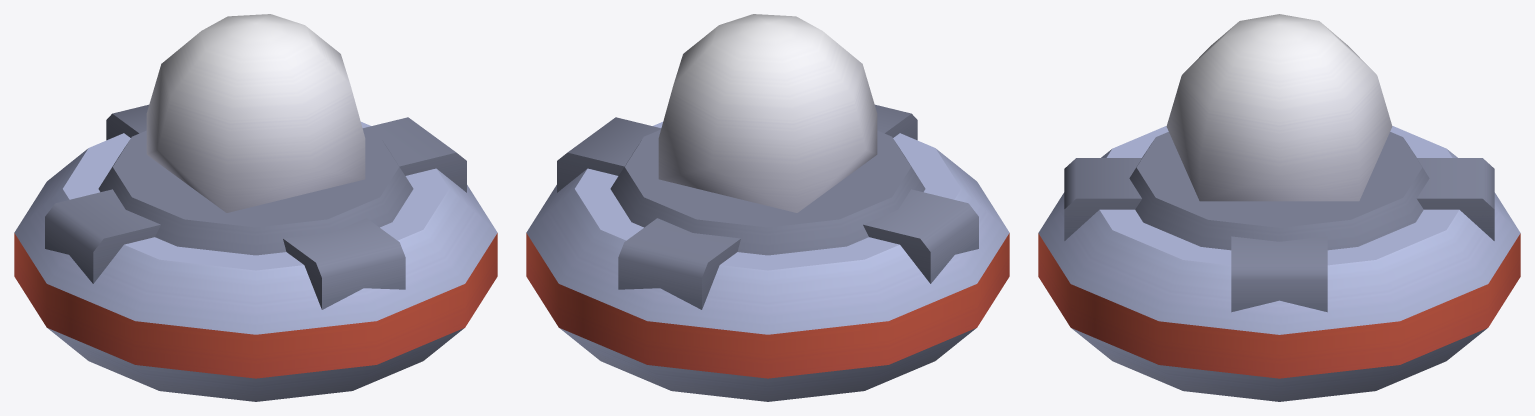
The model's file is cc0-enemy-ufo-lod1.glb.
3 renders of one model, left to right at view 1: azimuth 30°, elevation 25°; view 2: azimuth 150°, elevation 25°; view 3: azimuth 270°, elevation 25°, orthographic.
Visible parts, largest first — view 1: part_0; view 2: part_0; view 3: part_0.
Boxes of the visible parts, left/top/right/bottom form: part_0: left=14, top=14, right=497, bottom=401; part_0: left=526, top=14, right=1009, bottom=401; part_0: left=1038, top=14, right=1520, bottom=401.
Bounding box in the file's own units: 1 × 0.6779 × 1.
Materials: 1 (1 with a texture image).
